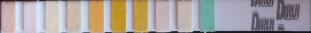color 1: (2, 2, 14, 31)
color 10: (201, 1, 213, 30)
color 2: (23, 2, 36, 31)
color 3: (46, 2, 58, 31)
color 4: (68, 3, 80, 31)
color 5: (91, 2, 102, 31)
color 6: (112, 2, 125, 31)
color 7: (134, 1, 146, 30)
color 8: (157, 2, 168, 30)
color 9: (179, 2, 191, 30)
